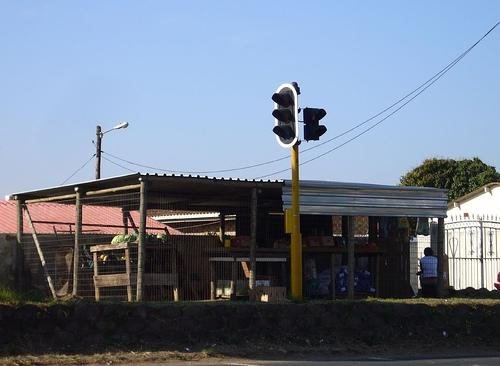lettuce: (146, 232, 158, 243), (111, 234, 125, 243), (124, 233, 136, 242), (157, 234, 168, 242), (130, 232, 138, 240)
